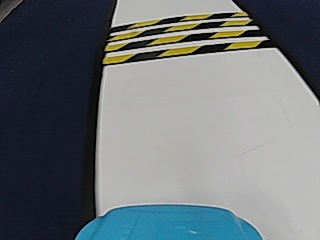bump: (119, 13, 243, 66)
